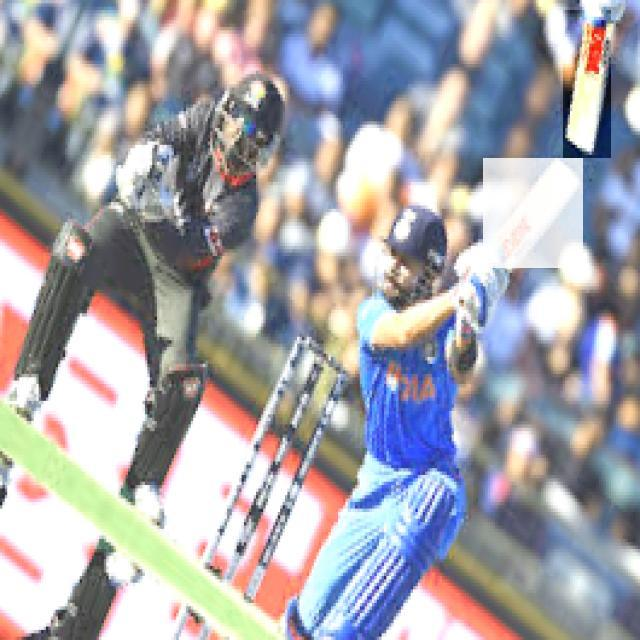bat: (485, 158, 582, 270), (563, 5, 615, 157)
